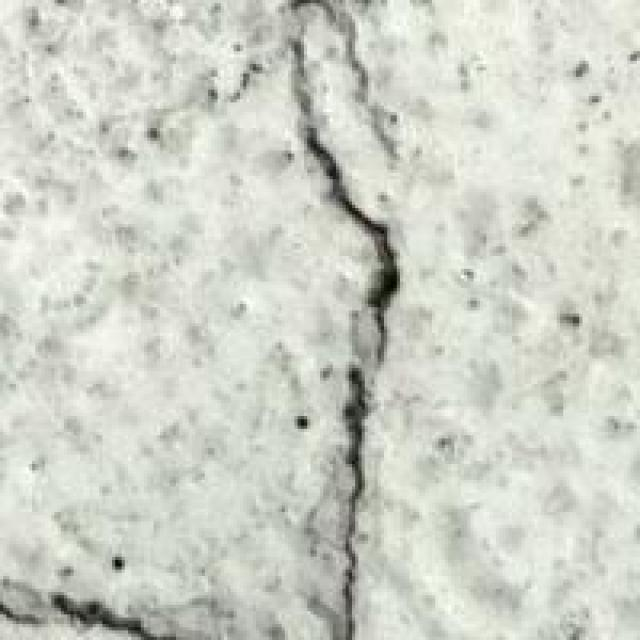crack: (246, 19, 416, 637)
